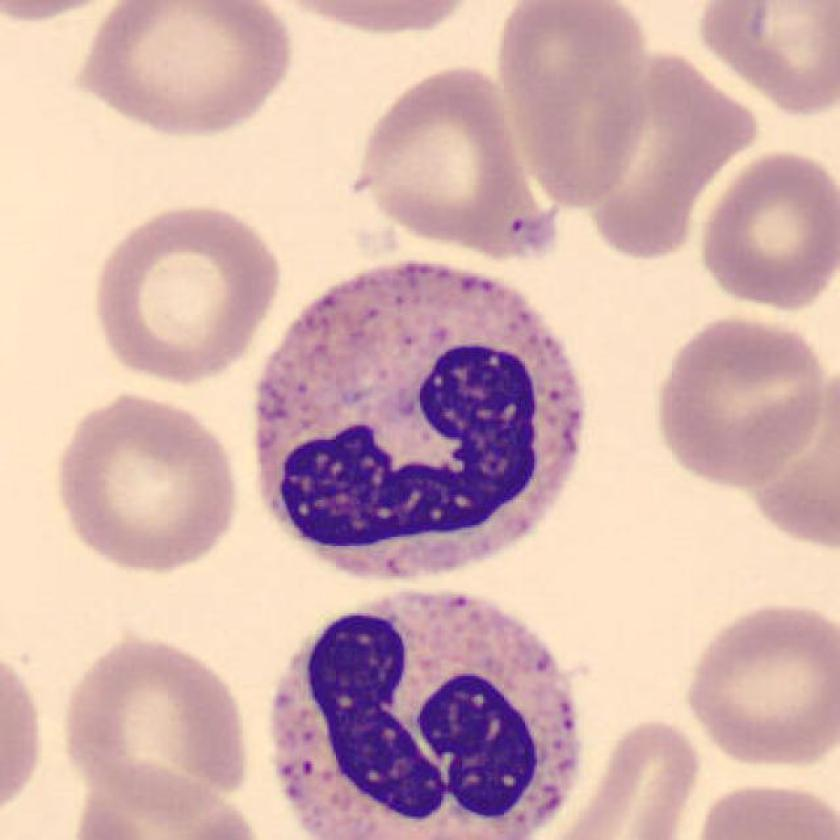neutrophil: (258, 264, 580, 579), (274, 597, 585, 840)
